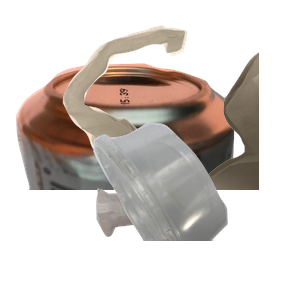glass: (94, 184, 253, 300)
metal: (13, 61, 240, 241)
plastic: (91, 120, 300, 300)
trash: (60, 23, 300, 203)
